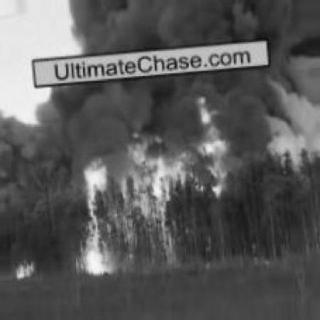Fire: (70, 97, 238, 273)
Smoke: (49, 5, 313, 124)
